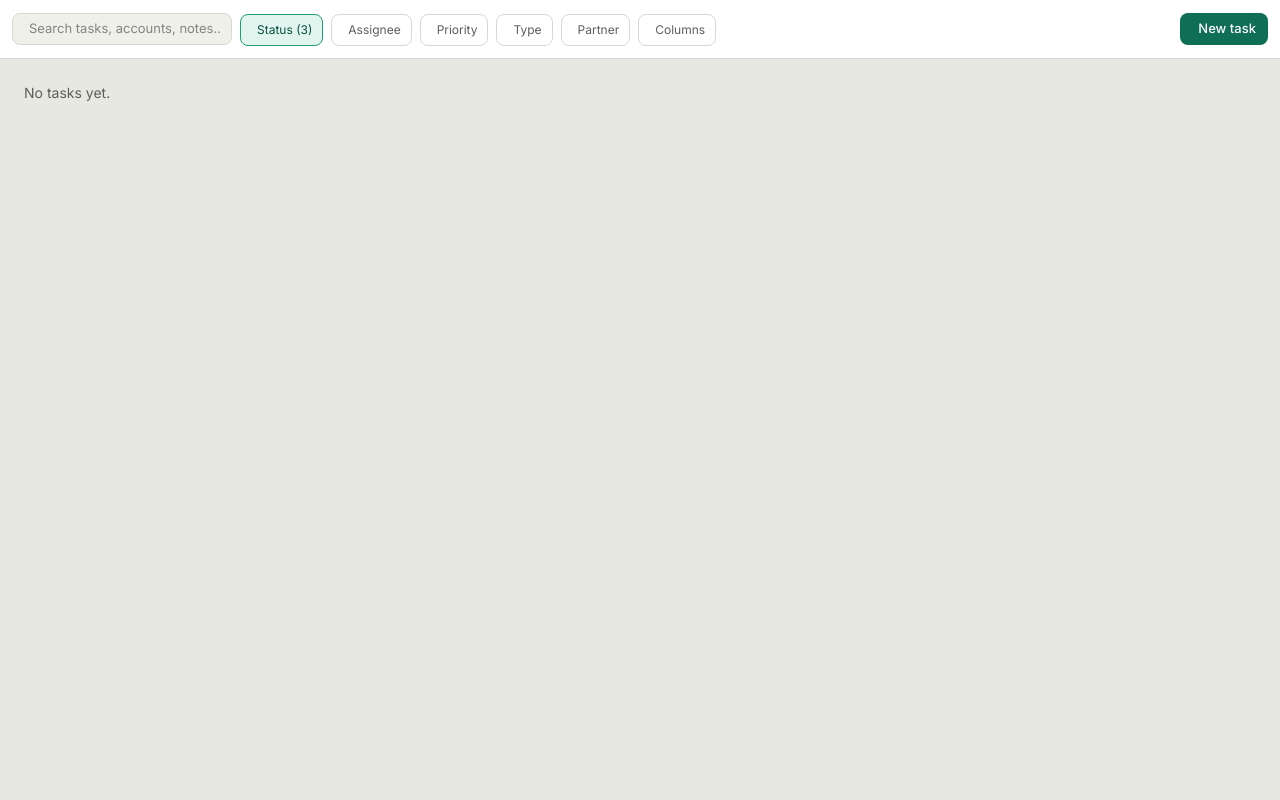
it: TasksPage › opens the new task modal
Expected: the text "No tasks yet." is shown, top-left (24, 84), bottom-right (110, 101)
Step 1. Click the button "New task" → (1224, 29), box top-left (1180, 13), bottom-right (1268, 45)
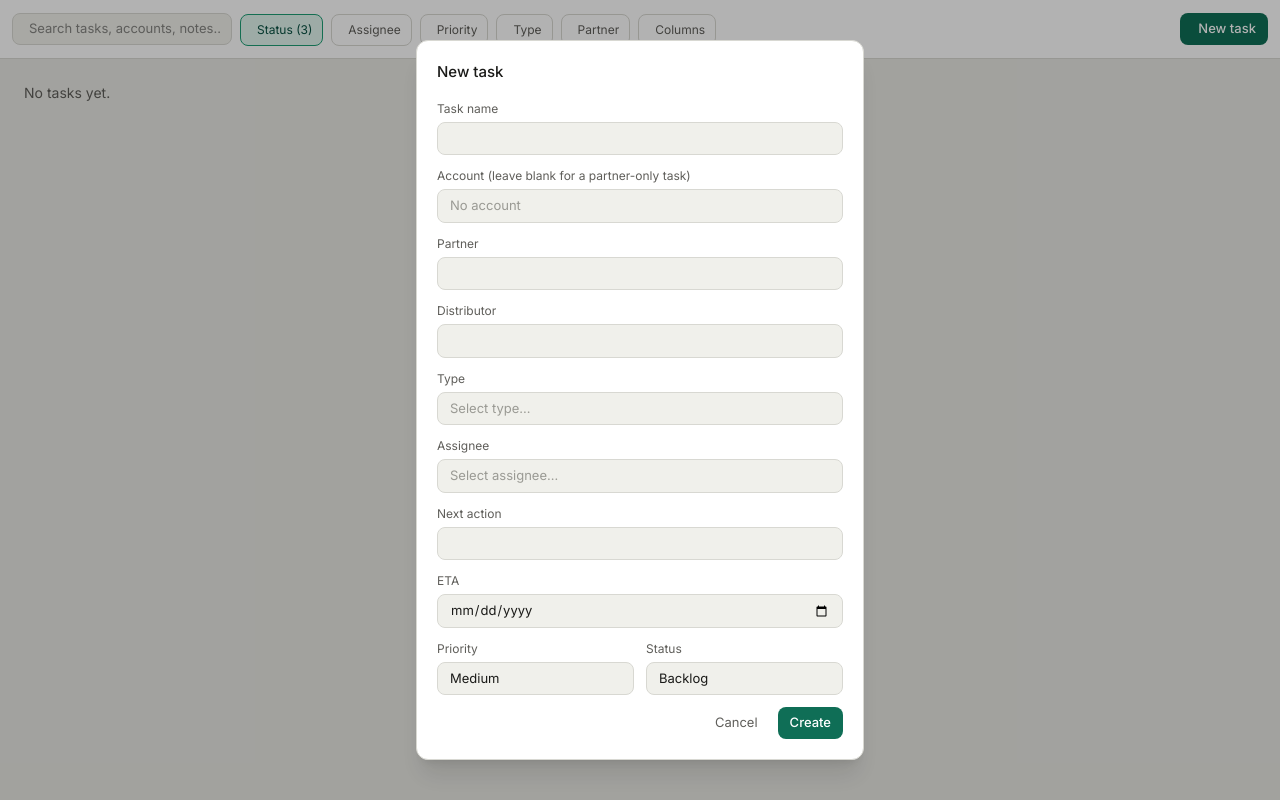
Expected: the heading "New task" is shown, top-left (437, 62), bottom-right (504, 81)
